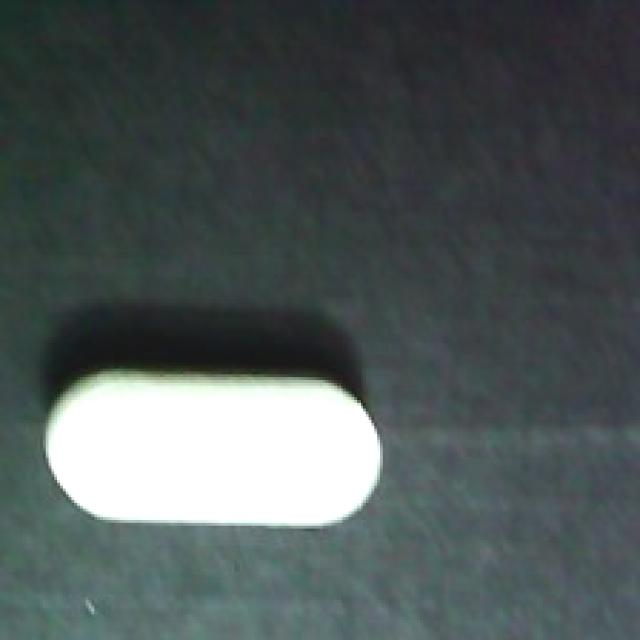no-defect: (40, 354, 389, 529)
